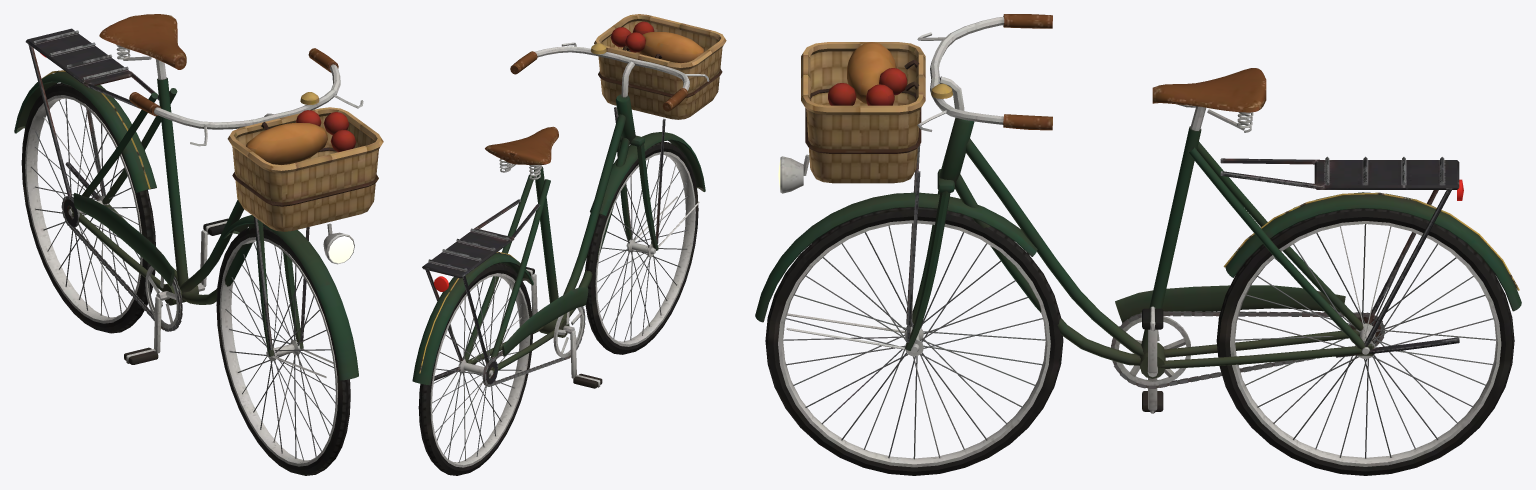
Rendered from bicycle.glb.
3 renders of one model, left to right at view 1: azimuth 30°, elevation 25°; view 2: azimuth 150°, elevation 25°; view 3: azimuth 270°, elevation 25°, orthographic. The views are drawn at different scales.
Visible parts, largest first — view 1: steer, bicycle_body, wheel_front, wheel_rear, pedals; view 2: bicycle_body, steer, wheel_front, wheel_rear, pedals; view 3: bicycle_body, steer, wheel_front, wheel_rear, pedals.
Boxes of the visible parts, box(x1,y1,x2,y2) form: steer: box(129, 48, 383, 380); bicycle_body: box(14, 14, 254, 331); wheel_front: box(216, 226, 350, 475); wheel_rear: box(21, 83, 155, 333); pedals: box(124, 218, 228, 364); bicycle_body: box(412, 94, 635, 386); steer: box(510, 14, 726, 250); wheel_front: box(585, 142, 698, 354); wheel_rear: box(418, 263, 532, 475); pedals: box(525, 267, 602, 388); bicycle_body: box(939, 68, 1521, 388); steer: box(755, 14, 1052, 350); wheel_front: box(765, 207, 1063, 475); wheel_rear: box(1216, 208, 1514, 475); pedals: box(1114, 306, 1190, 413).
Bounding box in the file's own units: 0.598 × 1.08 × 1.8.
Materials: 3 (1 with a texture image).
